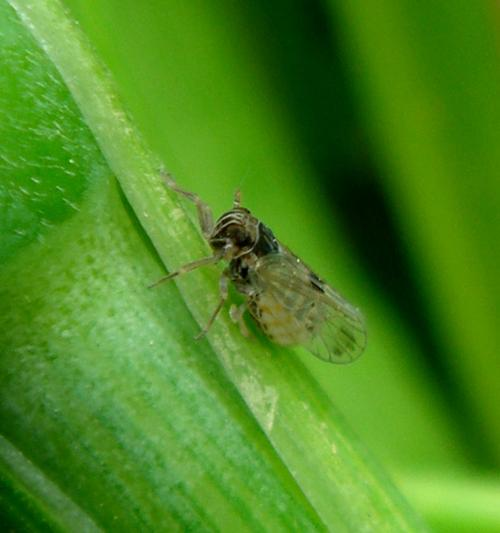Delphacidae: (144, 166, 366, 365)
